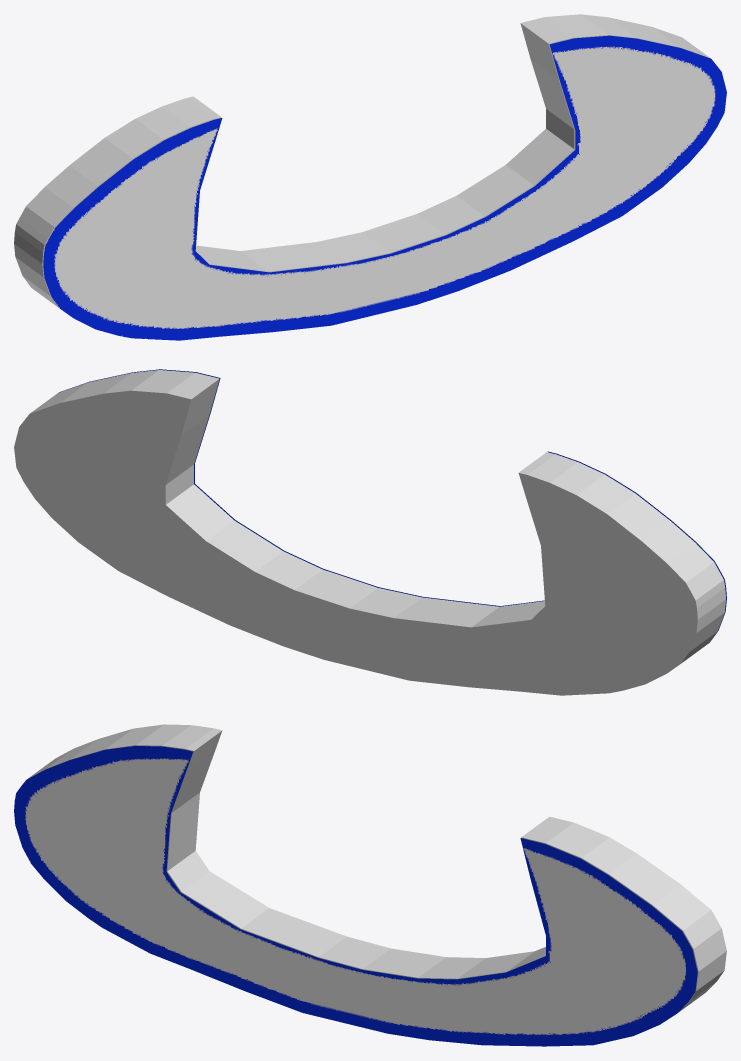
3 views of the same model, one above another, from view 1: azimuth 30°, elevation 25°; view 2: azimuth 150°, elevation 25°; view 3: azimuth 330°, elevation 25° (orthographic).
Parts seen in each view (by area): view 1: In5_1, In5_0; view 2: In5_0, In5_1; view 3: In5_1, In5_0.
Part boxes in pixels (x1,y1,x2,y2): In5_1: (43,35,726,340); In5_0: (14,14,710,308); In5_0: (14,370,725,695); In5_1: (59,369,726,642); In5_1: (14,745,697,1046); In5_0: (27,724,726,1012).
Size of the model in its own units: 6.97 by 2.28 by 0.515.
2 materials, 1 textured.
